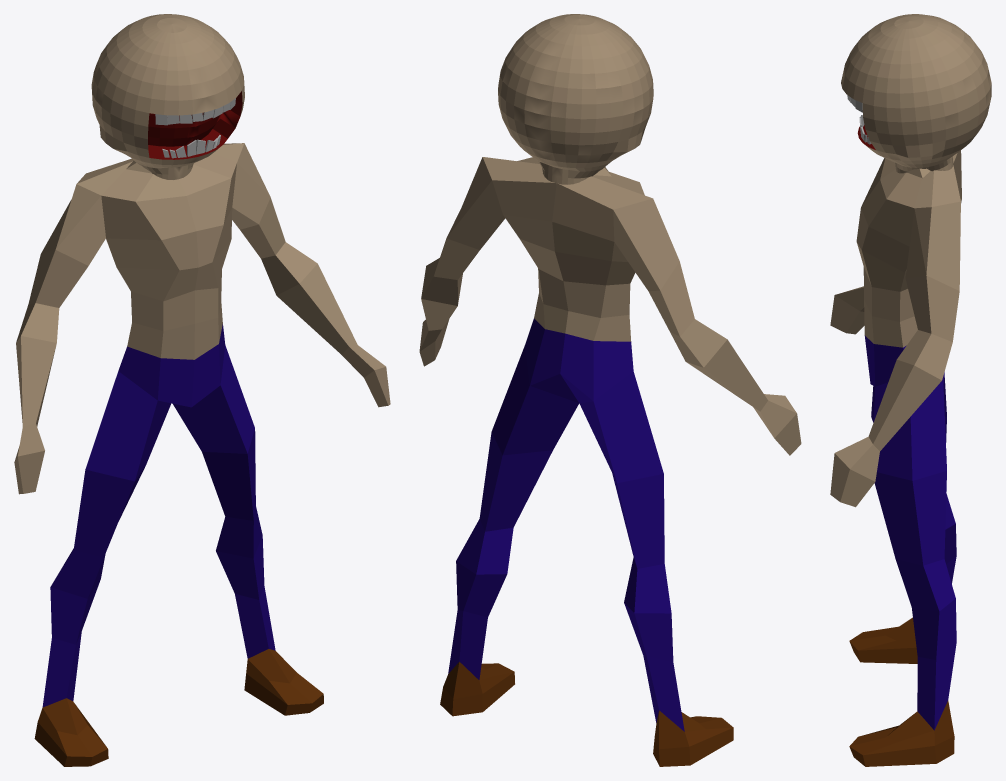
The model's file is HorrorCharacterHead&BodyWithAnimation.fbx.
The picture shows the model from 3 angles, left to right: view 1: azimuth 30°, elevation 25°; view 2: azimuth 150°, elevation 25°; view 3: azimuth 270°, elevation 25°; orthographic projection. The views are drawn at different scales.
Visible parts, largest first — view 1: Sphere; view 2: Sphere; view 3: Sphere.
Part boxes in pixels (x1,y1,x2,y2): Sphere: (14, 14, 390, 766); Sphere: (419, 14, 801, 766); Sphere: (830, 14, 991, 766).
Bounding box in the file's own units: 336 × 606 × 130.
